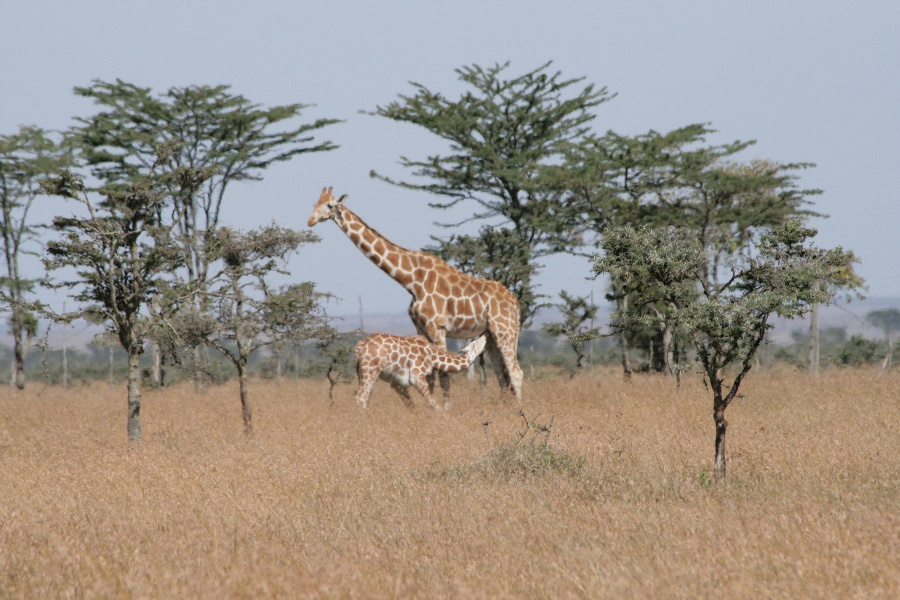giraffe: (300, 178, 531, 409), (342, 325, 494, 421)
